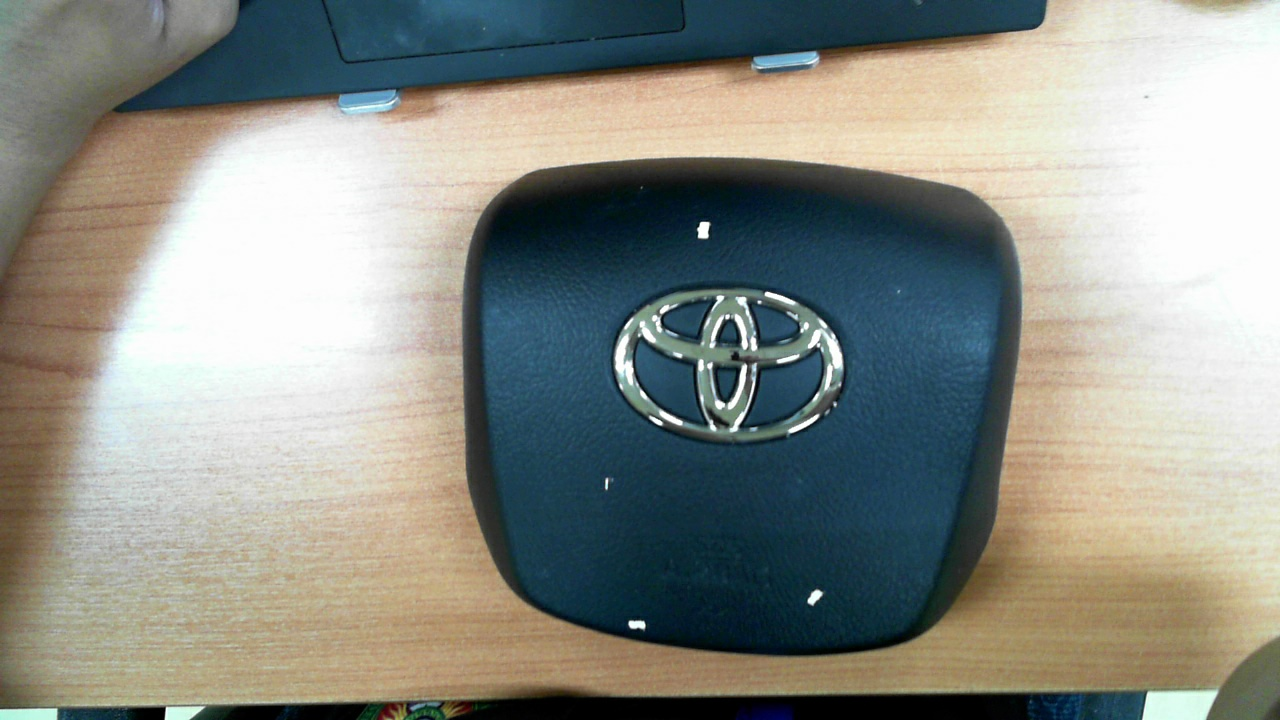Airbag: (463, 155, 1023, 660)
Mark: (807, 589, 824, 606), (697, 222, 711, 239), (628, 620, 647, 631), (605, 477, 609, 491), (897, 289, 901, 294), (640, 186, 643, 189)
